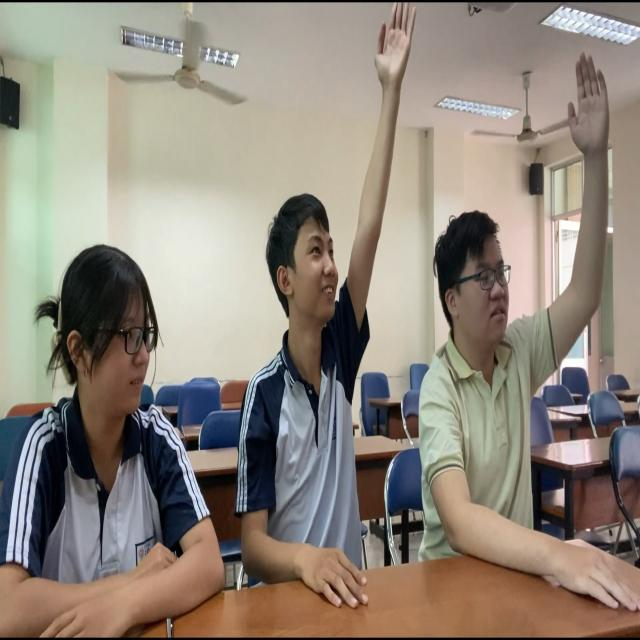raise_hand: (192, 1, 422, 640), (403, 38, 640, 634)
